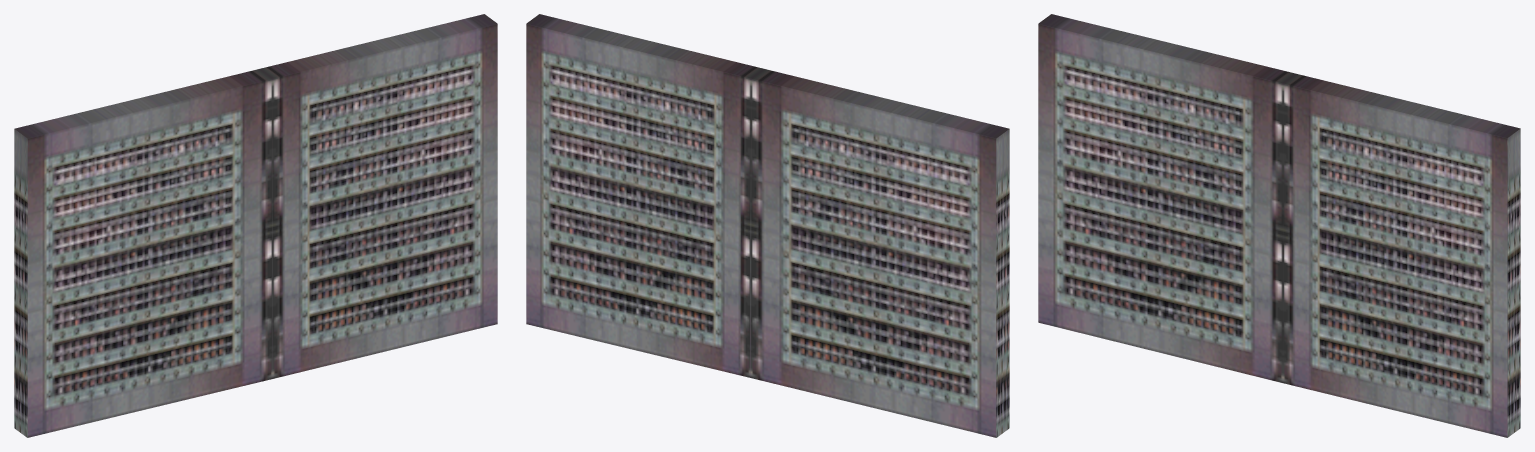
The model's file is DOOR07.glb.
The picture shows the model from 3 angles, left to right: view 1: azimuth 30°, elevation 25°; view 2: azimuth 150°, elevation 25°; view 3: azimuth 330°, elevation 25°; orthographic projection.
Visible parts, largest first — view 1: DOOR07; view 2: DOOR07; view 3: DOOR07.
Boxes of the visible parts, <box> form: DOOR07: <box>14,14,497,437</box>; DOOR07: <box>526,14,1009,437</box>; DOOR07: <box>1038,14,1520,437</box>.
Bounding box in the file's own units: 1326 × 809 × 64.83.
Materials: 1 (1 with a texture image).
